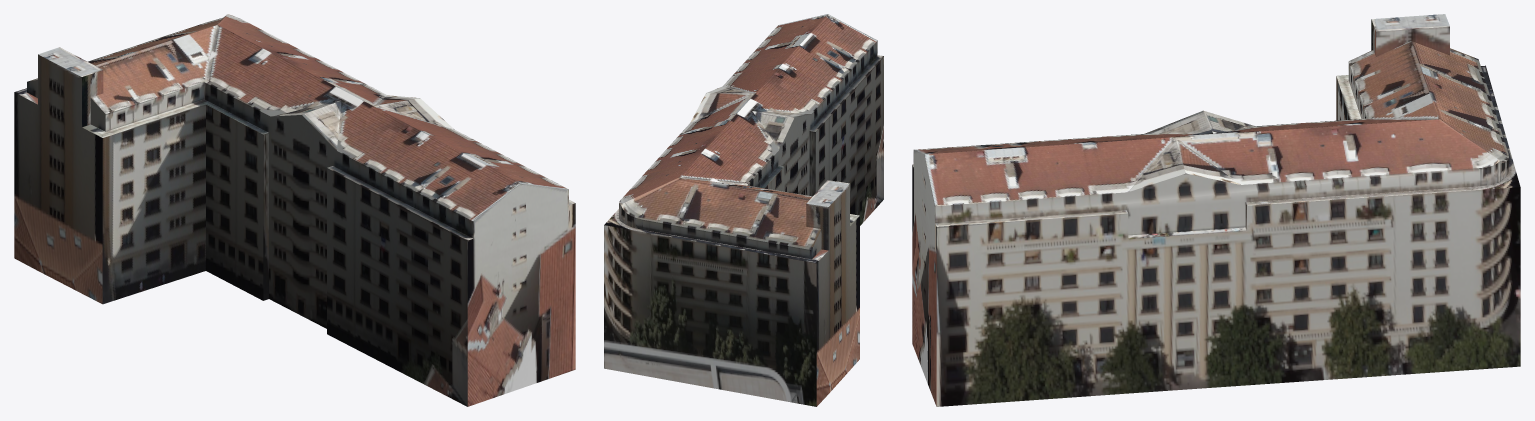
3 views of the same model, side by side, from view 1: azimuth 30°, elevation 25°; view 2: azimuth 150°, elevation 25°; view 3: azimuth 270°, elevation 25° (orthographic). The views are drawn at different scales.
Visible parts, largest first — view 1: Z_UP; view 2: Z_UP; view 3: Z_UP.
Part boxes in pixels (x1=…): Z_UP: x1=14, y1=14, x2=575, y2=406; Z_UP: x1=604, y1=14, x2=883, y2=406; Z_UP: x1=912, y1=14, x2=1520, y2=406.
Size of the model in its own units: 40.42 by 27.26 by 64.24.
2 materials, 1 textured.
